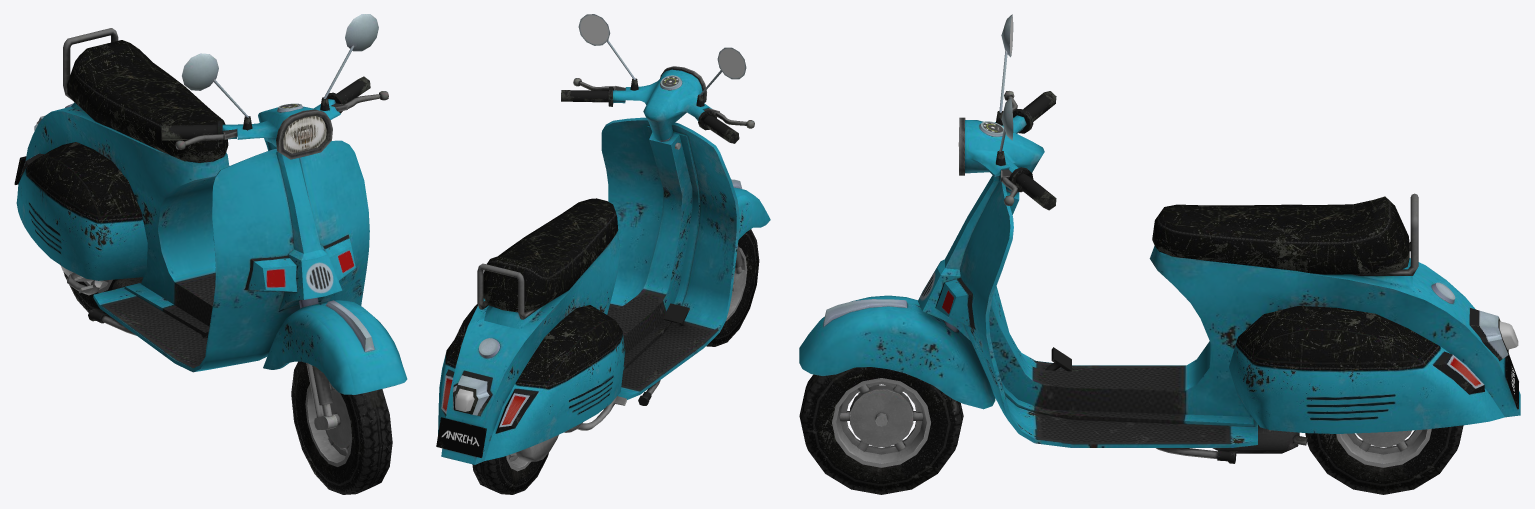
File: Scooter.fbx
The picture shows the model from 3 angles, left to right: view 1: azimuth 30°, elevation 25°; view 2: azimuth 150°, elevation 25°; view 3: azimuth 270°, elevation 25°; orthographic projection. The views are drawn at different scales.
Visible parts, largest first — view 1: Body, Handle, Front_Tyre, Rear_Tyre; view 2: Body, Handle, Front_Tyre, Rear_Tyre; view 3: Body, Front_Tyre, Rear_Tyre, Handle.
Part boxes in pixels (left/top/right/bottom): Body: left=14, top=28, right=407, bottom=429; Handle: left=161, top=14, right=388, bottom=159; Front_Tyre: left=291, top=361, right=392, bottom=494; Rear_Tyre: left=63, top=272, right=116, bottom=319; Body: left=436, top=117, right=770, bottom=464; Handle: left=561, top=14, right=754, bottom=143; Front_Tyre: left=706, top=229, right=759, bottom=346; Rear_Tyre: left=472, top=452, right=548, bottom=494; Body: left=799, top=175, right=1520, bottom=463; Front_Tyre: left=799, top=367, right=963, bottom=494; Rear_Tyre: left=1305, top=425, right=1463, bottom=494; Handle: left=958, top=14, right=1056, bottom=210.
Size of the model in its own units: 80.34 by 148 by 224.
